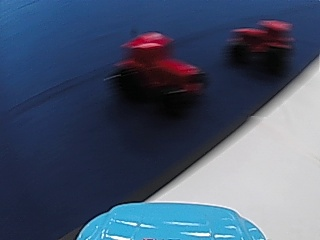tractor: (230, 17, 295, 72)
